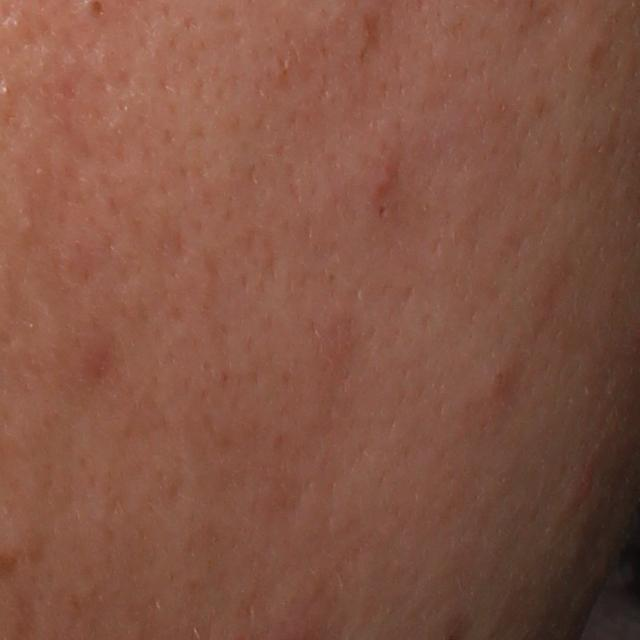papule: (365, 135, 414, 206), (572, 466, 598, 502)
